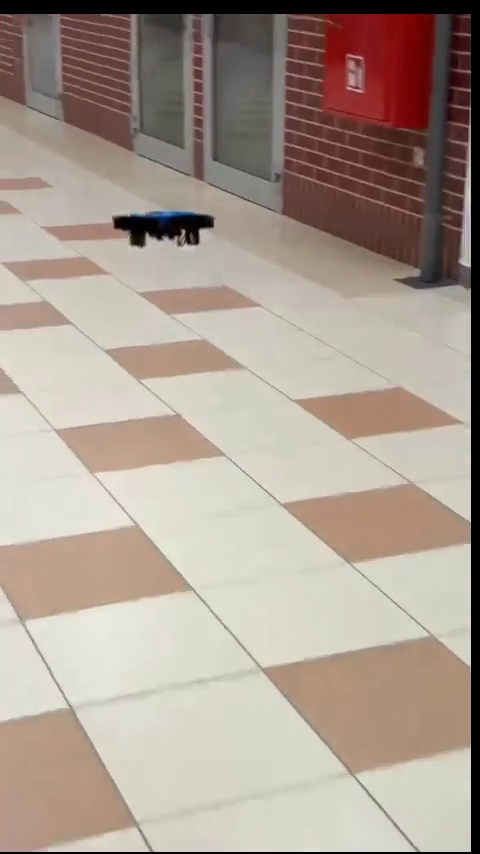drone: (113, 210, 216, 247)
